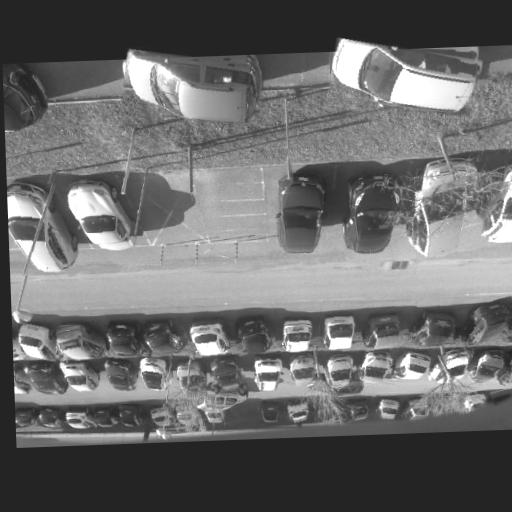busy: (328, 39, 490, 118), (120, 49, 266, 127), (7, 181, 80, 278), (402, 179, 487, 257), (63, 177, 140, 254), (340, 175, 413, 256), (274, 173, 337, 256), (4, 66, 49, 132), (455, 299, 512, 346), (410, 307, 463, 347), (54, 320, 106, 360), (14, 319, 62, 361), (140, 317, 189, 358), (360, 310, 410, 350), (185, 317, 231, 359), (482, 180, 512, 241), (231, 314, 276, 354), (320, 313, 364, 351), (208, 354, 247, 396), (355, 351, 399, 388), (102, 319, 145, 356), (468, 348, 511, 385), (24, 359, 68, 395), (99, 356, 142, 392), (323, 352, 363, 390), (59, 358, 103, 392), (279, 316, 319, 352), (394, 347, 437, 380), (250, 356, 287, 393), (134, 355, 172, 390), (438, 347, 476, 382), (286, 351, 321, 386), (176, 359, 207, 392), (285, 396, 318, 423), (373, 396, 406, 422), (457, 391, 490, 417), (404, 395, 433, 423), (342, 397, 375, 421), (146, 404, 176, 428), (91, 404, 122, 427), (313, 398, 342, 422), (119, 403, 147, 426), (37, 405, 66, 427), (63, 407, 93, 427), (258, 400, 285, 421), (14, 362, 32, 392), (15, 405, 40, 426), (502, 349, 512, 382), (507, 304, 512, 341)
free: (491, 386, 512, 412)
